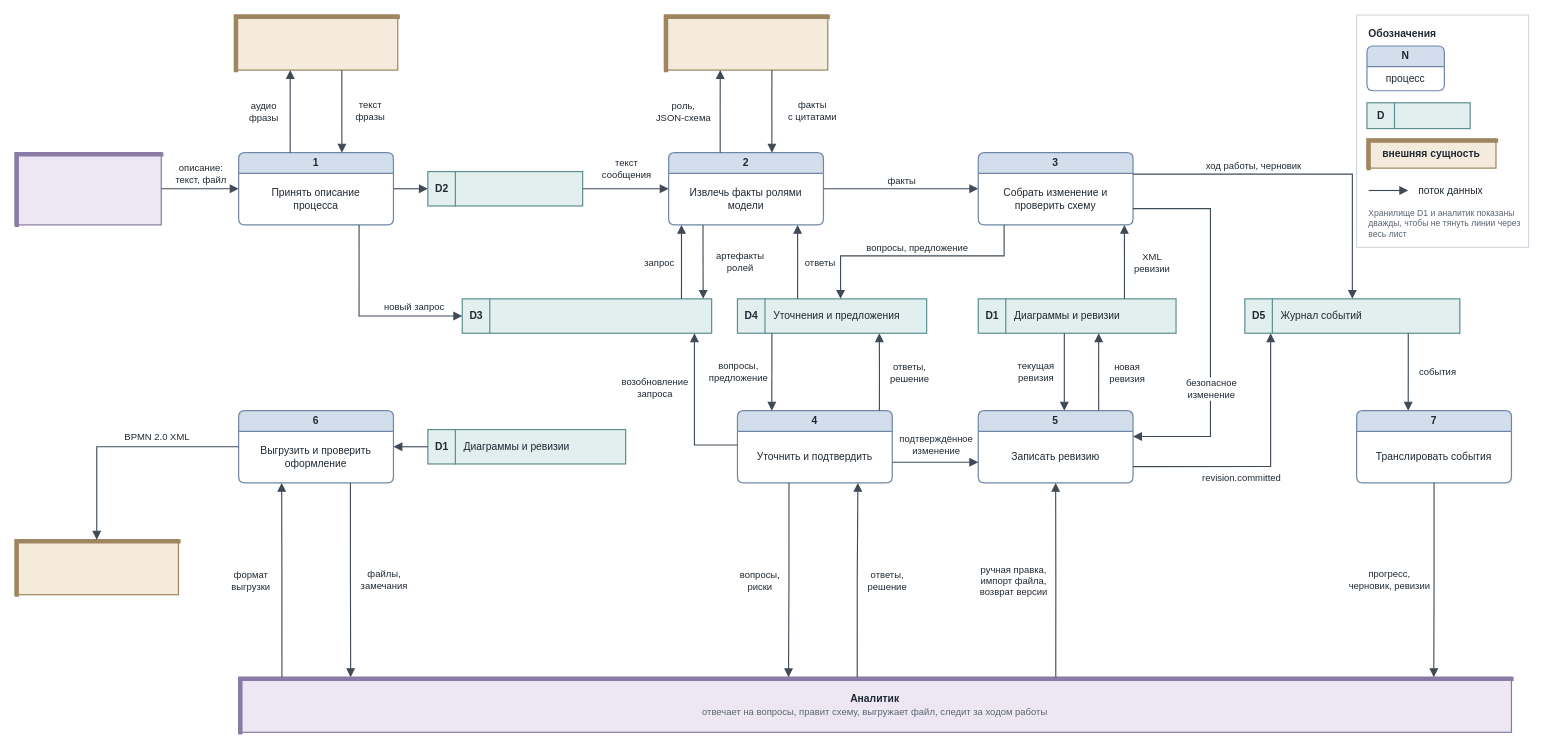
Image size: 1545x750. Some labels were removed from this diagram. The box of each missing label's shape, as (x1, y1, x2, y2) in pixels:
BPMN-редакторы bpmn.io, Camunda Modeler: (14, 539, 179, 595)
Аналитик описывает процесс: (14, 152, 161, 225)
Запросы агенту и артефакты: (461, 298, 712, 333)
Провайдер языковой модели: (663, 14, 828, 70)
Сервис распознавания речи: (233, 14, 398, 70)
хранилище: (1366, 102, 1470, 129)
Чаты и сообщения: (427, 171, 583, 206)
